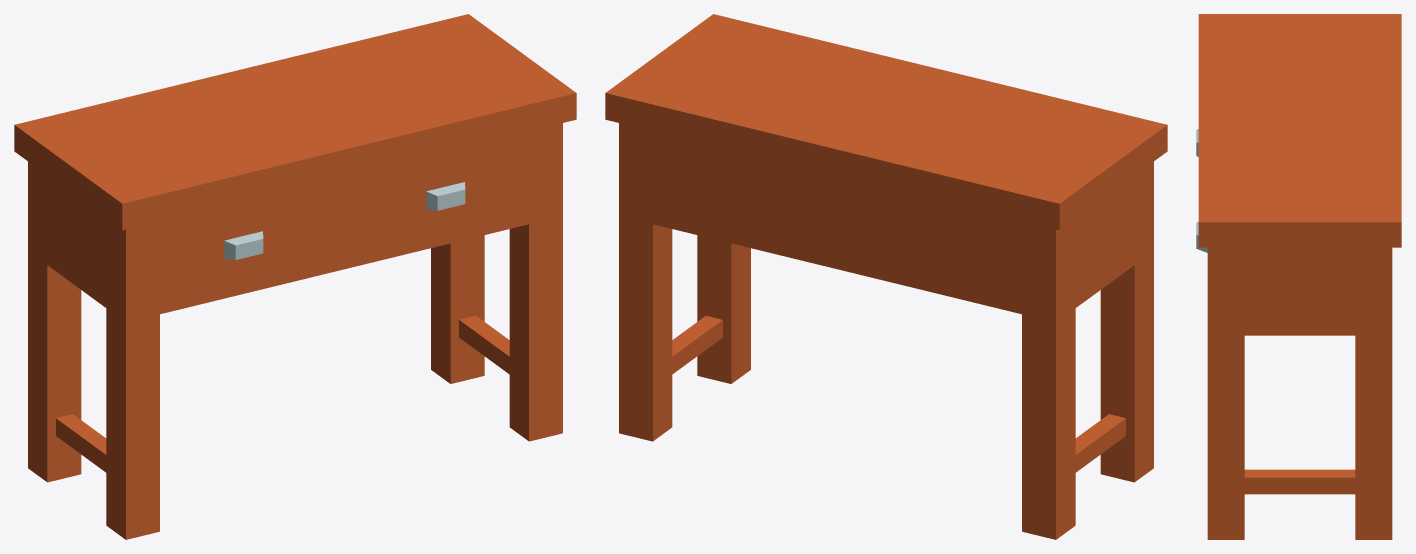
Rendered from Table.fbx.
3 renders of one model, left to right at view 1: azimuth 30°, elevation 25°; view 2: azimuth 150°, elevation 25°; view 3: azimuth 270°, elevation 25°, orthographic. The views are drawn at different scales.
Visible parts, largest first — view 1: sideTableDrawers; view 2: sideTableDrawers; view 3: sideTableDrawers.
Part boxes in pixels (<box>): sideTableDrawers: <box>14,14,576,539</box>; sideTableDrawers: <box>605,14,1167,539</box>; sideTableDrawers: <box>1196,14,1401,539</box>.
Size of the model in its own units: 5.34 by 3.84 by 2.22.
